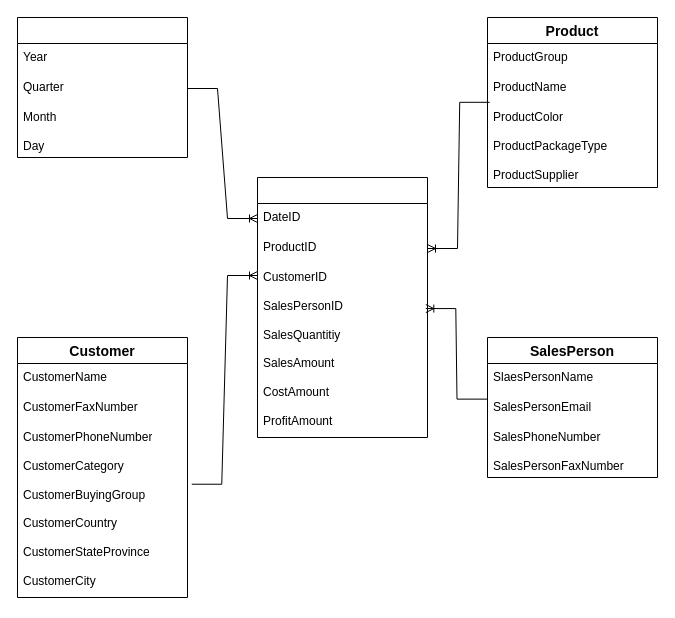
The diagram is 675 pixels wide and 618 high, and some of its shapes have lost their labels. Each missing label, with the box of its shape:
Date: (16, 16, 188, 158)
Facts: (256, 176, 428, 438)
